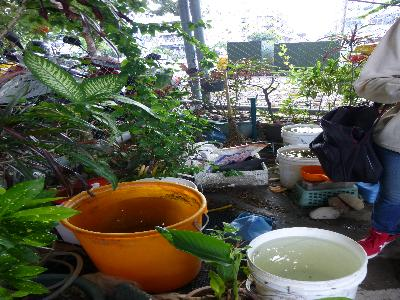bowl: (299, 164, 327, 182)
bucket: (57, 180, 205, 292), (244, 227, 370, 300), (274, 145, 324, 189), (279, 124, 326, 147)
